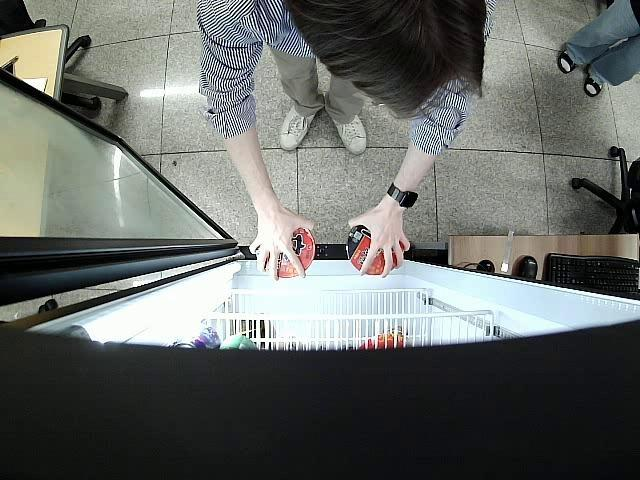01_ShinRamen_L: (345, 228, 405, 276), (265, 226, 316, 276)
